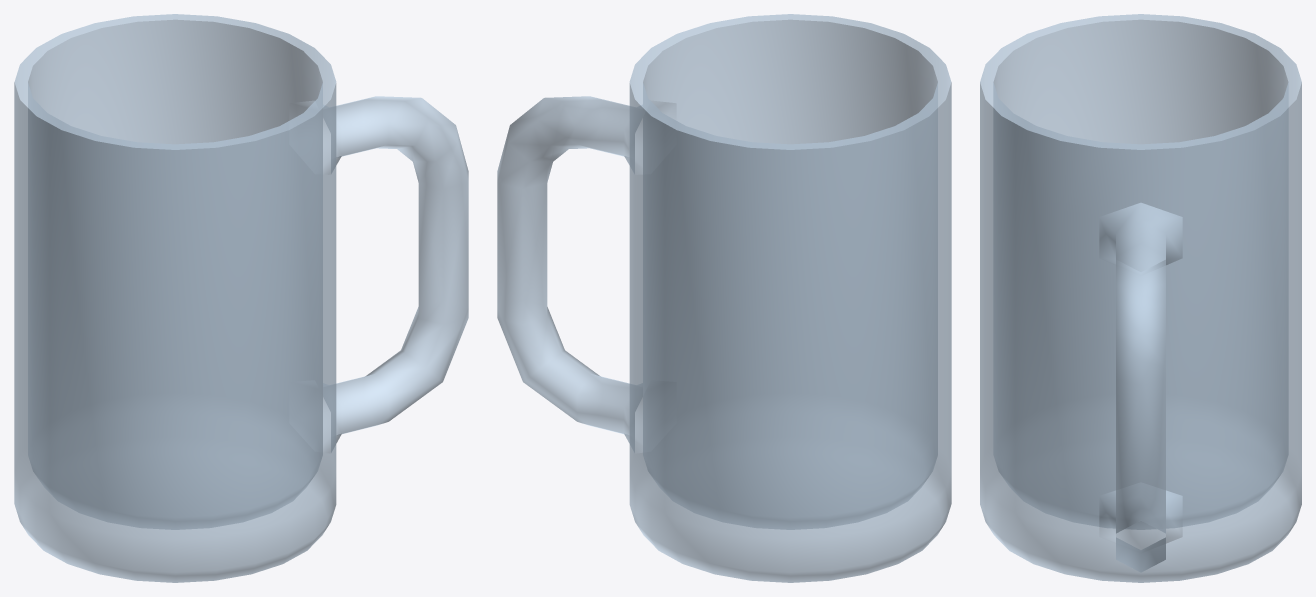
Rendered from BeerMug.FBX.
3 views of the same model, side by side, from view 1: azimuth 30°, elevation 25°; view 2: azimuth 150°, elevation 25°; view 3: azimuth 270°, elevation 25° (orthographic).
Parts seen in each view (by area): view 1: BeerMug; view 2: BeerMug; view 3: BeerMug.
Part boxes in pixels (x1,y1,x2,y2): BeerMug: [14, 14, 468, 582]; BeerMug: [497, 14, 951, 582]; BeerMug: [980, 14, 1301, 582].
Bounding box in the file's own units: 57.68 × 55.66 × 37.19.
